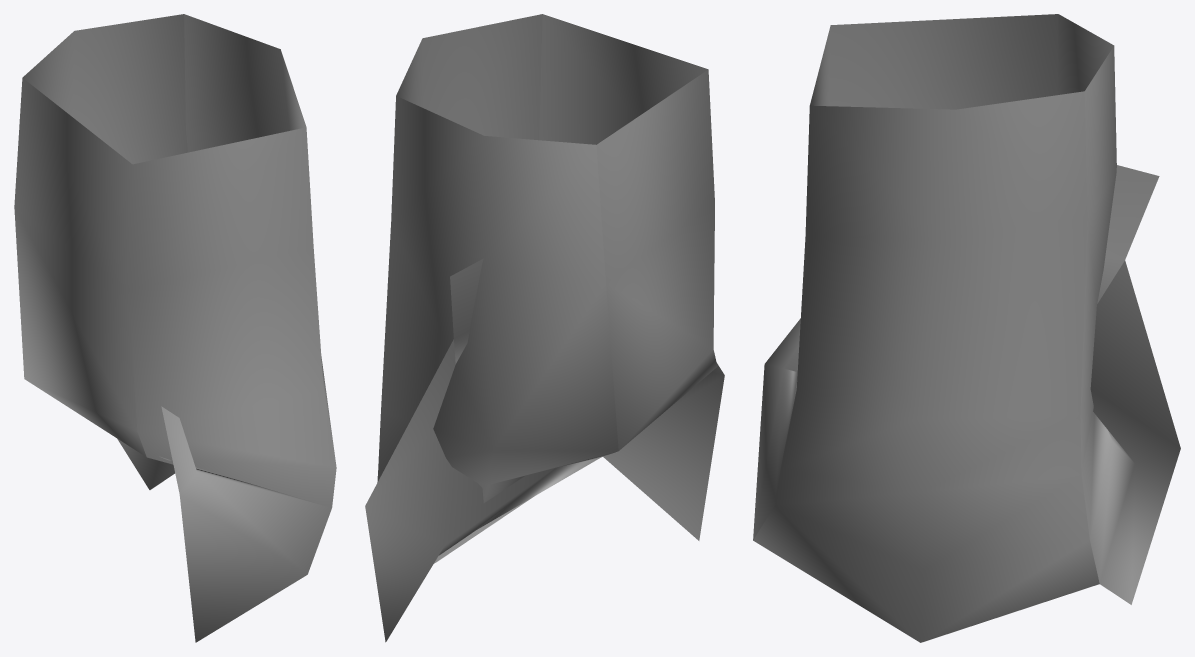
File: left_arm.glb
3 views of the same model, side by side, from view 1: azimuth 30°, elevation 25°; view 2: azimuth 150°, elevation 25°; view 3: azimuth 270°, elevation 25° (orthographic). The views are drawn at different scales.
Visible parts, largest first — view 1: polo-grey_LEFT_ARM; view 2: polo-grey_LEFT_ARM; view 3: polo-grey_LEFT_ARM.
Boxes of the visible parts, bbox=[...] form: polo-grey_LEFT_ARM: bbox=[14, 14, 336, 642]; polo-grey_LEFT_ARM: bbox=[365, 14, 724, 642]; polo-grey_LEFT_ARM: bbox=[753, 14, 1180, 642].
Size of the model in its own units: 0.1307 by 0.252 by 0.1839.
1 material, 1 textured.
